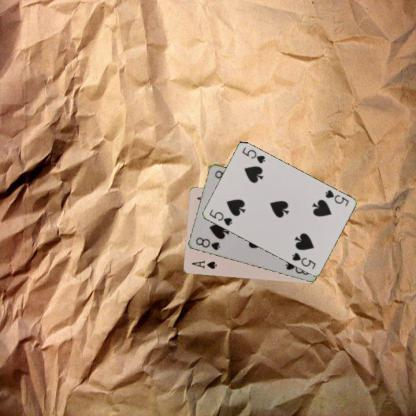5s: (323, 187, 350, 208), (206, 207, 234, 227)
8s: (193, 235, 221, 252)
As: (189, 258, 218, 270)
